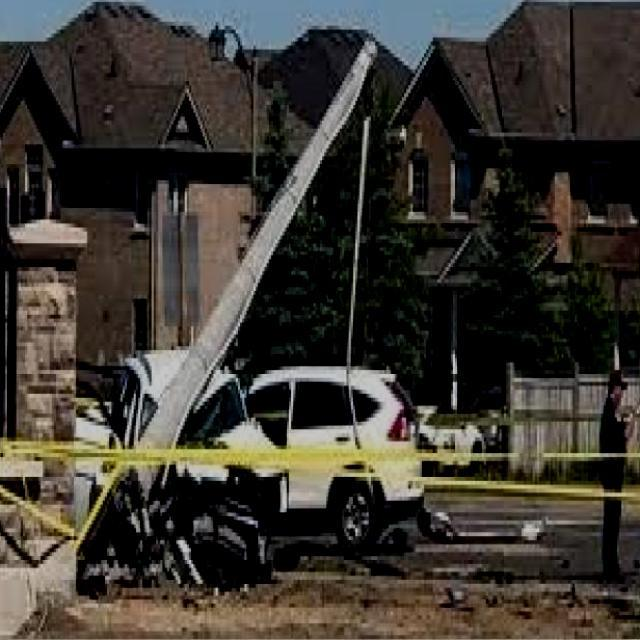accident: (99, 335, 423, 580)
